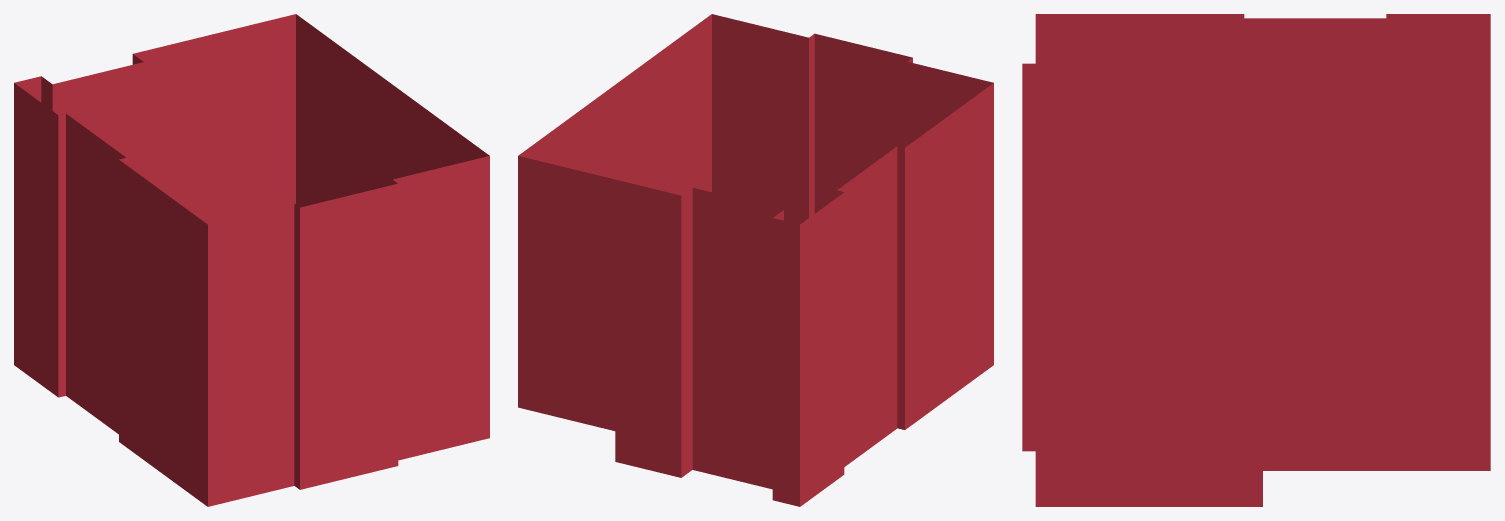
The model's file is bedcollision.glb.
3 views of the same model, side by side, from view 1: azimuth 30°, elevation 25°; view 2: azimuth 150°, elevation 25°; view 3: azimuth 270°, elevation 25° (orthographic). The views are drawn at different scales.
Visible parts, largest first — view 1: Plane.002; view 2: Plane.002; view 3: Plane.002.
Part boxes in pixels (x1,y1,x2,y2): Plane.002: (14,14,489,506); Plane.002: (518,14,993,506); Plane.002: (1022,14,1490,506).
Size of the model in its own units: 7.3 by 6.98 by 8.94.
